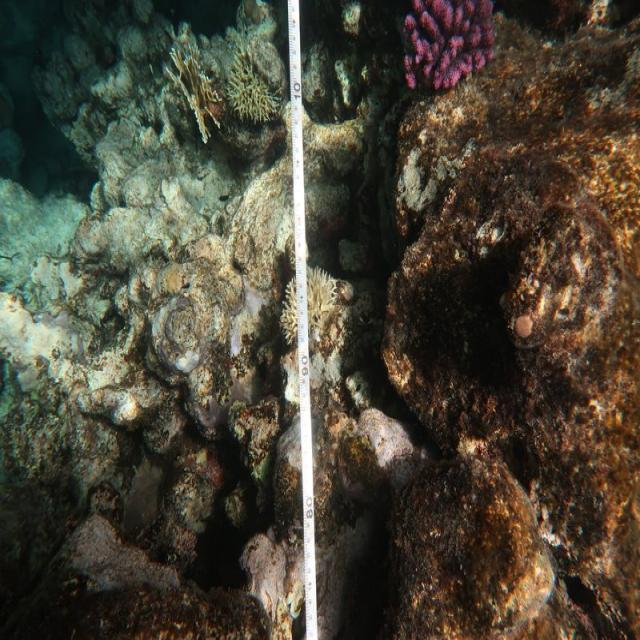Healthy Coral: (386, 0, 505, 95)
